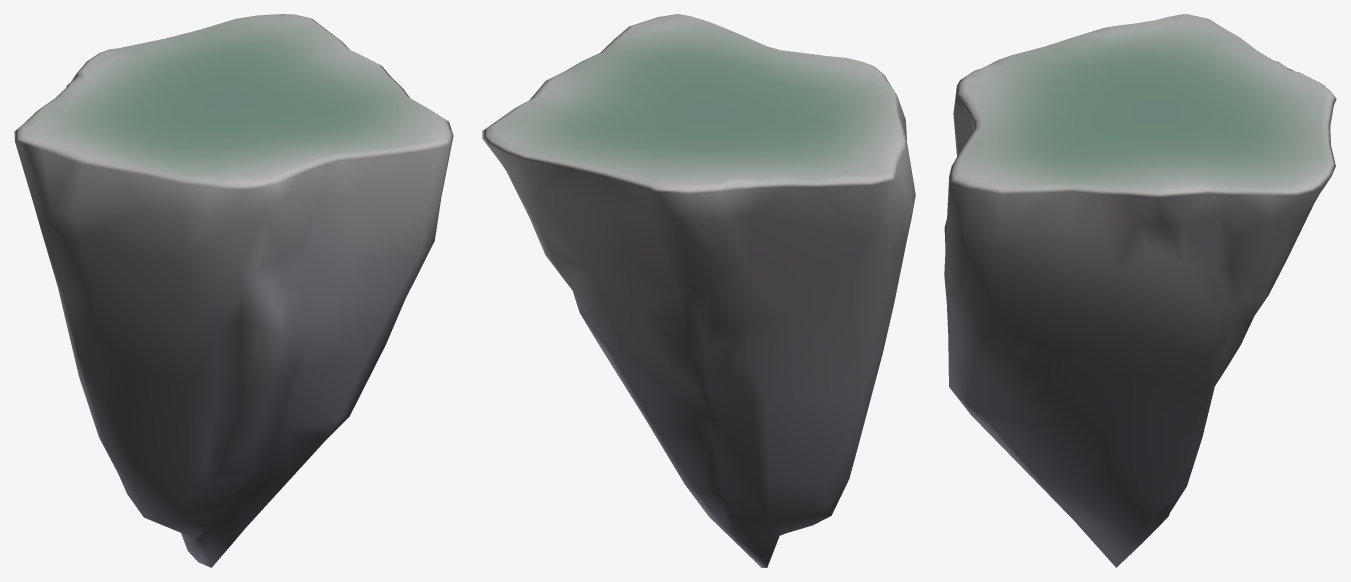
Rendered from S_IslandMedium_VarA.fbx.
3 views of the same model, side by side, from view 1: azimuth 30°, elevation 25°; view 2: azimuth 150°, elevation 25°; view 3: azimuth 270°, elevation 25° (orthographic). The views are drawn at different scales.
Parts seen in each view (by area): view 1: IslandMedium_VarA_GEO; view 2: IslandMedium_VarA_GEO; view 3: IslandMedium_VarA_GEO.
Part boxes in pixels (x1,y1,x2,y2): IslandMedium_VarA_GEO: (14, 14, 453, 567); IslandMedium_VarA_GEO: (482, 14, 915, 567); IslandMedium_VarA_GEO: (944, 14, 1336, 567).
Size of the model in its own units: 14.55 by 17.58 by 13.2.
